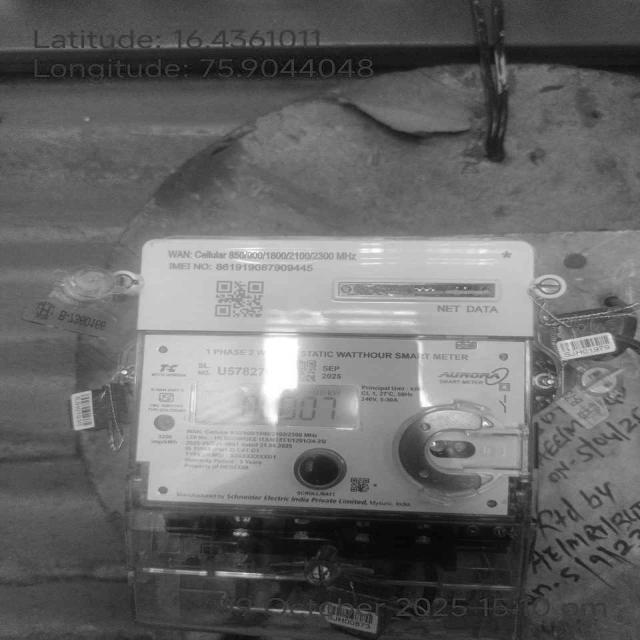meter: (138, 238, 529, 520)
